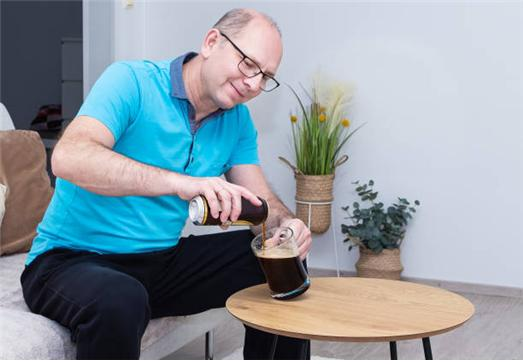alcohol: (249, 227, 311, 302), (188, 196, 267, 228)
